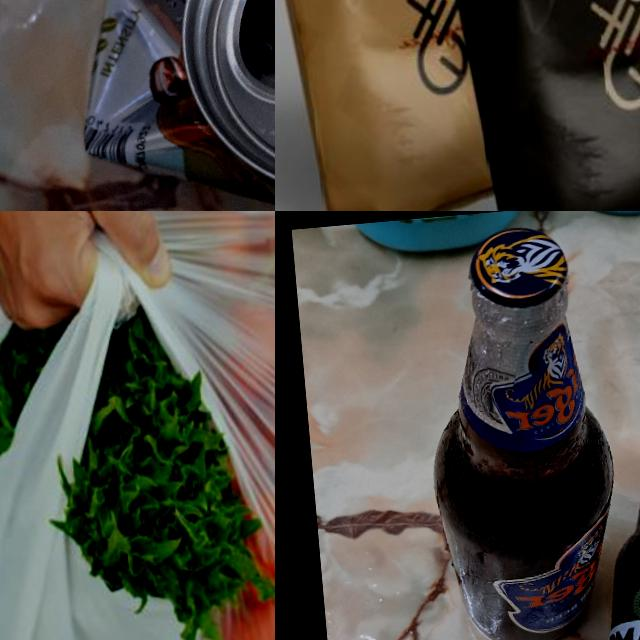garrafa de vidro: (411, 222, 626, 640), (574, 415, 640, 640)
lata: (58, 0, 275, 211)
sacola plástica: (0, 211, 275, 640), (275, 0, 558, 211), (421, 0, 640, 211)
